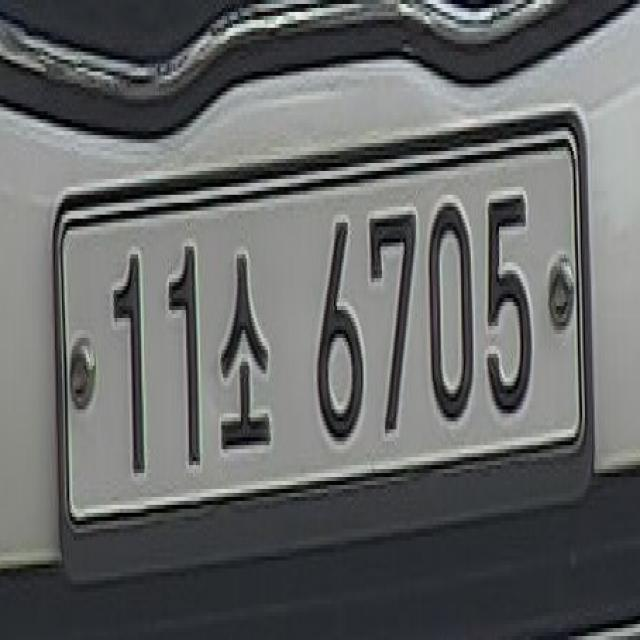0: (428, 196, 476, 432)
1: (164, 228, 208, 482), (110, 244, 152, 496)
5: (482, 178, 538, 424)
6: (314, 195, 364, 455)
7: (370, 204, 420, 446)
license_plate: (41, 97, 598, 584)
so: (216, 234, 280, 476)
